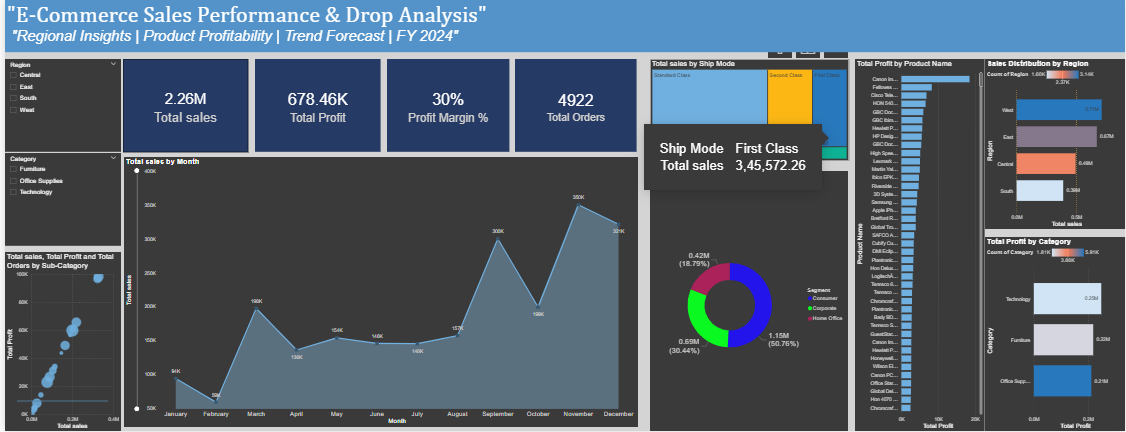

The dashboard page shown, as its layout file describes it:
{"tool":"powerbi","page":{"name":"Page 1","canvas":[2800,1080],"ordinal":0},"visuals":[{"type":"card","fields":{"Values":["orders.Total sales"]},"box":[295,150,312.5,232.5],"z":0},{"type":"card","fields":{"Values":["orders.Total Profit"]},"box":[624,150,314,232],"z":1000},{"type":"card","fields":{"Values":["orders.Profit Margin %"]},"box":[954,150,306,232],"z":2000},{"type":"card","fields":{"Values":["orders.Total Orders"]},"box":[1276,150,304,232],"z":3000},{"type":"lineChart","fields":{"Category":["orders.Order Date.Variation.Date Hierarchy.Month"],"Y":["orders.Total sales"]},"box":[296.2,393.8,1283.8,673.8],"z":4000},{"type":"clusteredBarChart","fields":{"Category":["orders.Category"],"Y":["orders.Total Profit"]},"box":[2450,595,350,485],"z":5000},{"type":"clusteredBarChart","title":"Sales Distribution by Region","fields":{"Category":["orders.Region"],"Y":["orders.Total sales"]},"box":[2450,150,350,425],"z":6000},{"type":"slicer","fields":{"Values":["orders.Category"]},"box":[0,384,290,232],"z":7000},{"type":"slicer","fields":{"Values":["orders.Region"]},"box":[0,150,290,232],"z":8000},{"type":"donutChart","title":"Sales By Segment","fields":{"Category":["orders.Segment"],"Y":["orders.Total sales"]},"box":[1612.5,430,495,650],"z":9000},{"type":"clusteredBarChart","fields":{"Category":["orders.Product Name"],"Y":["orders.Total Profit"]},"box":[2125.7,150,324.3,930],"z":10000},{"type":"scatterChart","fields":{"Category":["orders.Sub-Category"],"X":["orders.Total sales"],"Y":["orders.Total Profit"],"Size":["orders.Total Orders"]},"box":[0,632,290,448],"z":11000},{"type":"shape","box":[30,930,228.3,150],"z":12000},{"type":"treemap","fields":{"Group":["orders.Ship Mode"],"Values":["orders.Total sales"]},"box":[1612.5,150,497.5,255],"z":13000},{"type":"textbox","box":[0,0,2800,132.5],"z":14000}]}

Visuals, with their boxes in screenshot pixels (x1, y1, x2, y2), scaled from the page's 2800x1080 canvas onto the 1126x432 screenshot:
card - orders.Total sales: [left=119, top=60, right=244, bottom=153]
card - orders.Total Profit: [left=251, top=60, right=377, bottom=153]
card - orders.Profit Margin %: [left=384, top=60, right=507, bottom=153]
card - orders.Total Orders: [left=513, top=60, right=635, bottom=153]
lineChart - orders.Order Date.Variation.Date Hierarchy.Month x orders.Total sales: [left=119, top=158, right=635, bottom=427]
clusteredBarChart - orders.Category x orders.Total Profit: [left=985, top=238, right=1125, bottom=431]
"Sales Distribution by Region" clusteredBarChart: [left=985, top=60, right=1125, bottom=230]
slicer - orders.Category: [left=0, top=154, right=117, bottom=246]
slicer - orders.Region: [left=0, top=60, right=117, bottom=153]
"Sales By Segment" donutChart: [left=648, top=172, right=848, bottom=431]
clusteredBarChart - orders.Product Name x orders.Total Profit: [left=855, top=60, right=985, bottom=431]
scatterChart - orders.Sub-Category x orders.Total sales: [left=0, top=253, right=117, bottom=431]
shape: [left=12, top=372, right=104, bottom=431]
treemap - orders.Ship Mode x orders.Total sales: [left=648, top=60, right=849, bottom=162]
textbox: [left=0, top=0, right=1125, bottom=53]
